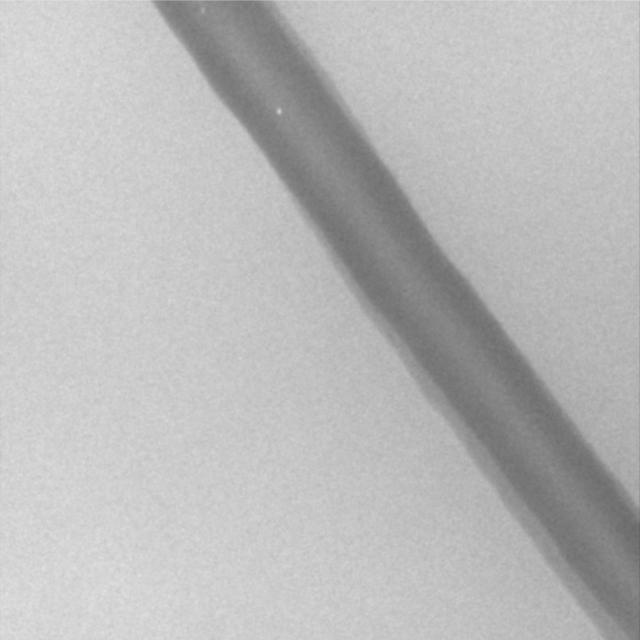air hole: (275, 107, 283, 117)
